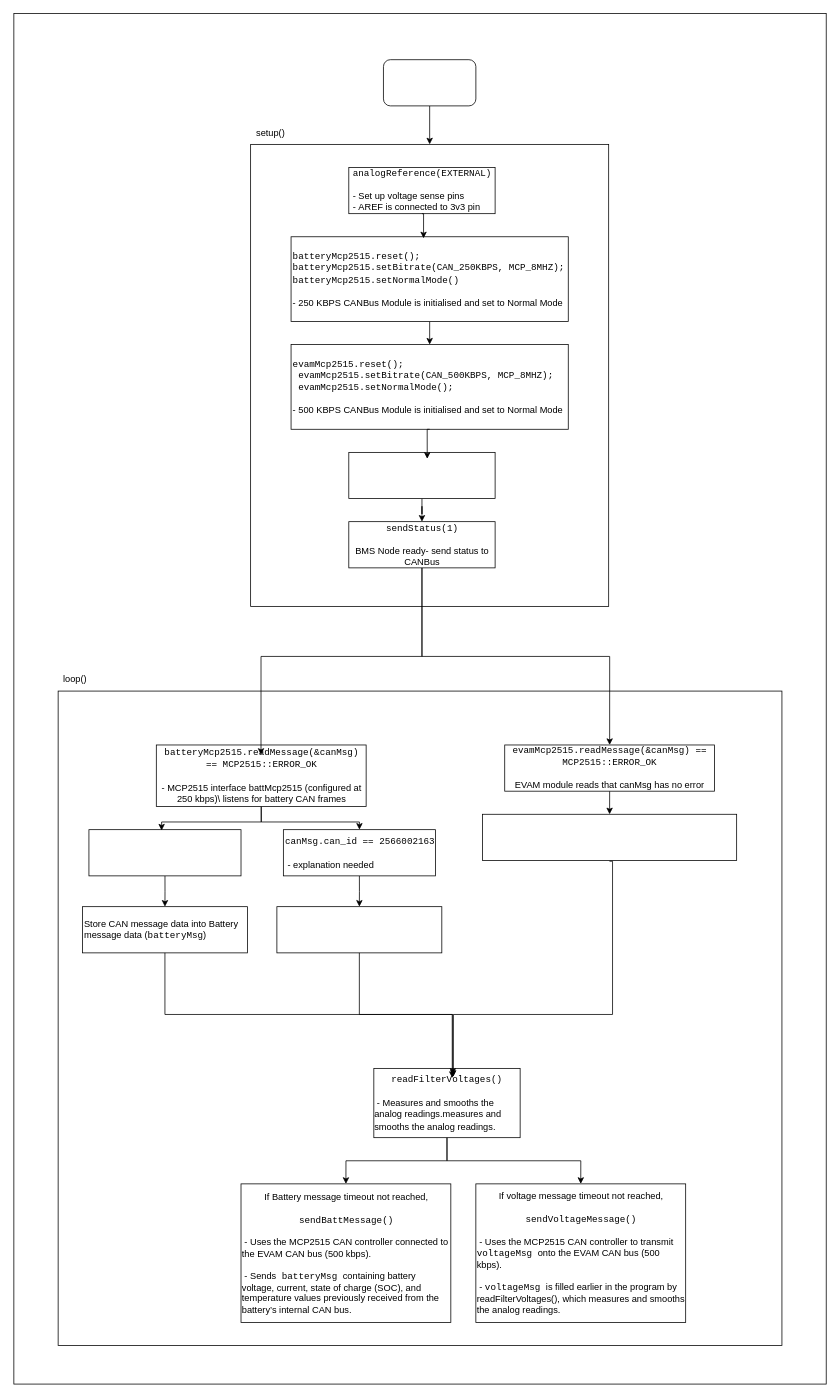
This 839x1398 diagram has some shape labels left out. The shapes that lost their labels are listed below. From the top down, each one's box as (x1, y1, x2, y2) in pixels, then its label:
(383, 59, 476, 106): Start/Reset
(348, 452, 495, 499): Wait for first messages to come in
(88, 829, 241, 876): canMsg.can_id == 2566001651 -explanation needed
(482, 814, 737, 860): canMsg.can_id == NODE_STATUS_REQUEST_MSG_ID - Message ID is requested
(276, 906, 442, 953): Store highest cell temperature data into Battery message data ( batteryMsg )
